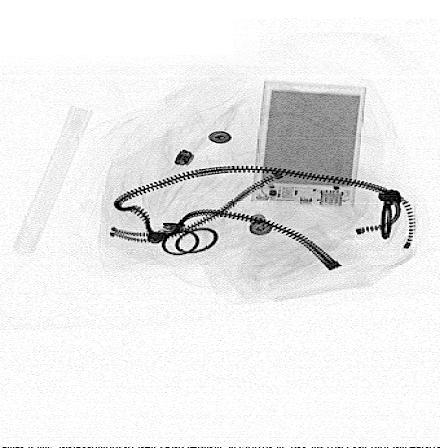Powerbank: (247, 79, 368, 208)
